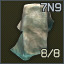9x39 SPP 8 pcs. ammo pack: (0, 0, 64, 64)
